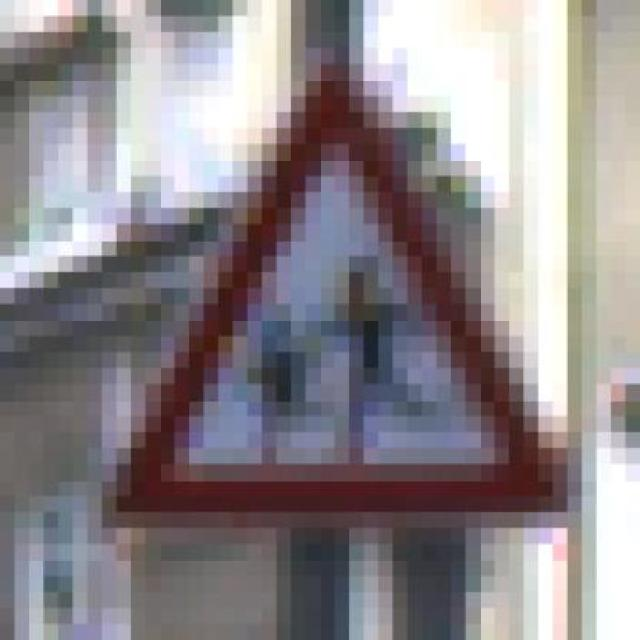Beware of children: (87, 64, 582, 544)
